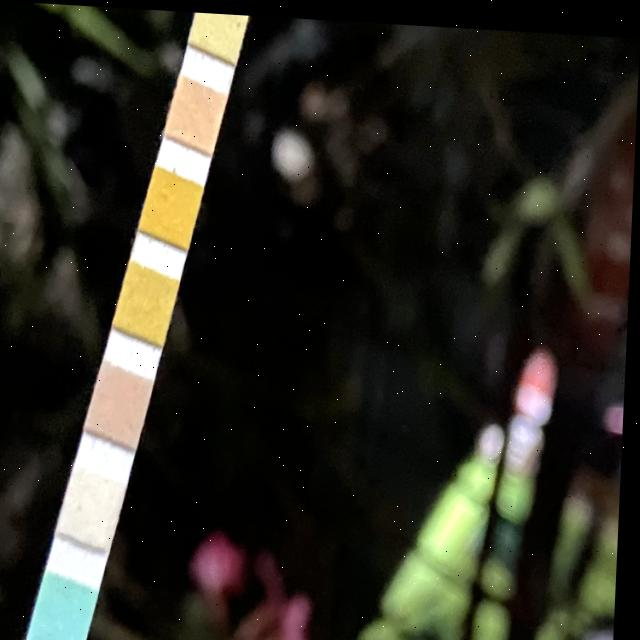Bilirubin: (74, 473, 120, 531)
Blood: (151, 176, 195, 232)
Glucose: (43, 583, 89, 640)
Ketone: (99, 373, 145, 431)
Protein: (197, 9, 240, 45)
SpGravity: (126, 276, 173, 323)
pH: (172, 88, 219, 132)
